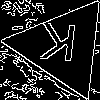K: (38, 22, 79, 71)
